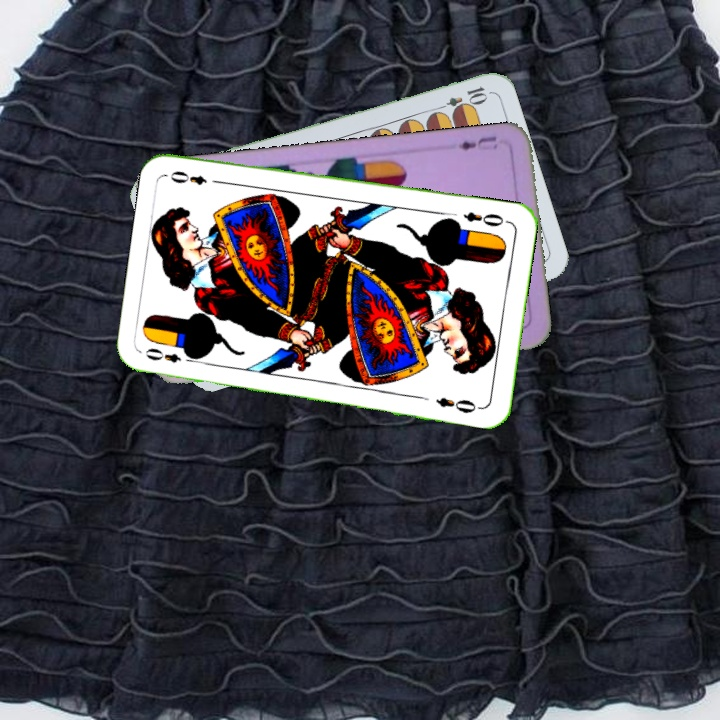E10: (432, 82, 490, 115)
EO: (459, 208, 511, 230), (141, 345, 184, 366)
EU: (454, 132, 499, 153)
